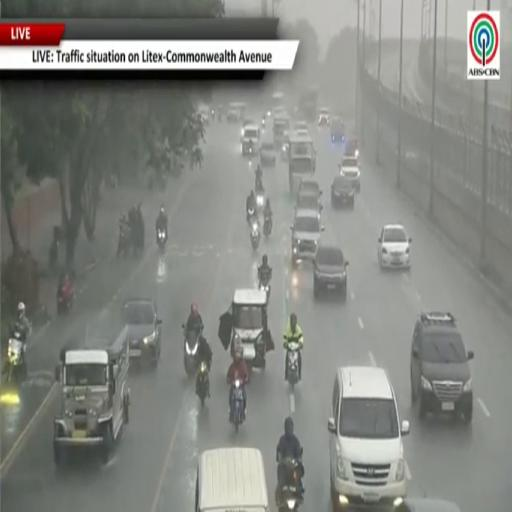car: (328, 366, 409, 509), (411, 312, 474, 423), (122, 298, 161, 364), (313, 245, 348, 300), (291, 211, 324, 266), (378, 224, 411, 268), (394, 498, 461, 511), (331, 175, 354, 210), (339, 155, 360, 191), (295, 196, 323, 218), (242, 124, 260, 155), (298, 179, 322, 200), (226, 102, 246, 123), (260, 141, 276, 167), (330, 117, 345, 143), (344, 137, 359, 158), (199, 105, 211, 124), (292, 120, 308, 134), (318, 107, 329, 126), (295, 128, 308, 136)
jeepney: (54, 327, 130, 466), (219, 290, 272, 367), (288, 136, 315, 193)
motorcycle: (276, 459, 303, 511), (5, 331, 26, 382), (230, 379, 245, 433), (184, 327, 200, 376), (286, 342, 300, 388), (196, 361, 209, 407), (57, 284, 74, 314), (117, 226, 131, 258), (251, 218, 260, 250), (259, 281, 270, 305), (157, 230, 167, 251), (256, 188, 264, 213), (264, 216, 272, 238), (247, 208, 255, 226), (211, 109, 215, 121)
